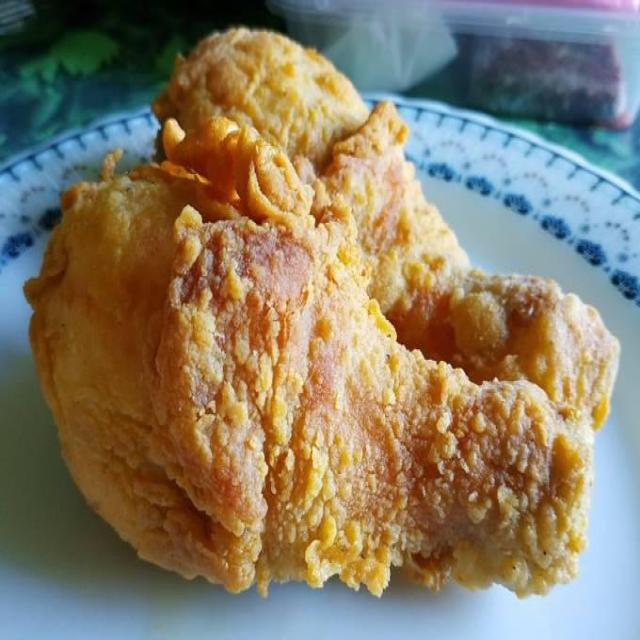Frango: (27, 161, 594, 596), (163, 22, 620, 429)
